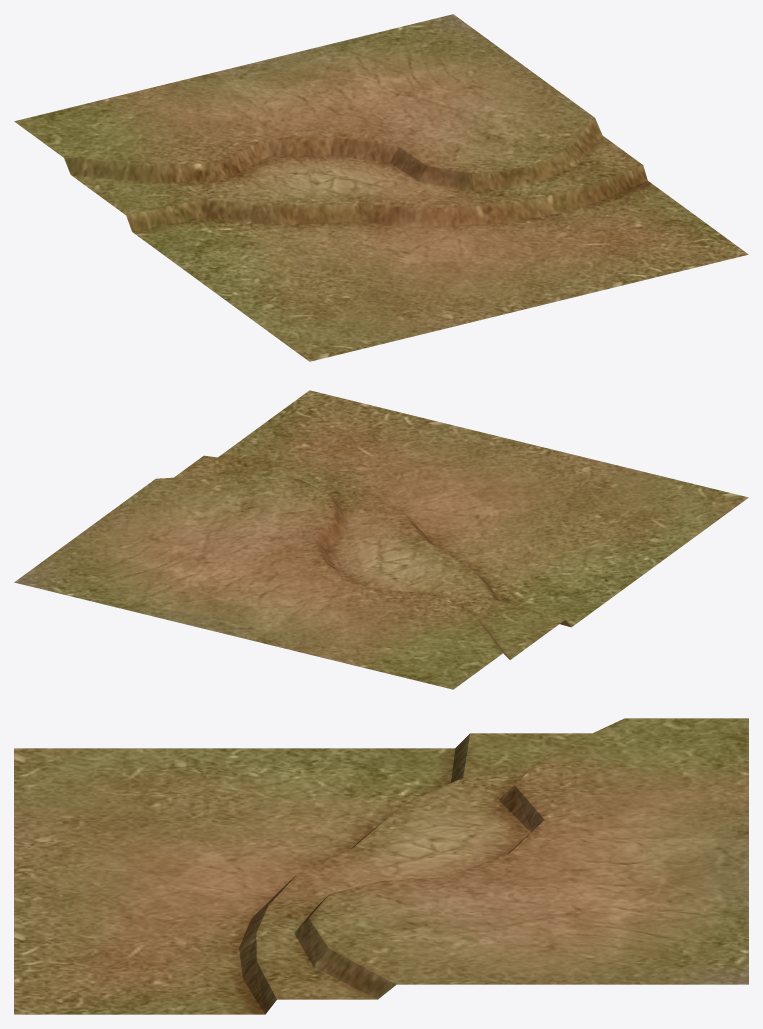
File: GGYD_DX01.FBX
The picture shows the model from 3 angles, top to bottom: view 1: azimuth 30°, elevation 25°; view 2: azimuth 150°, elevation 25°; view 3: azimuth 270°, elevation 25°; orthographic projection. The views are drawn at different scales.
Parts seen in each view (by area): view 1: Plane01; view 2: Plane01; view 3: Plane01.
Part boxes in pixels (<box>): Plane01: <box>14,14,748,361</box>; Plane01: <box>14,390,748,689</box>; Plane01: <box>14,718,748,1014</box>.
Size of the model in its own units: 51.49 by 2.7 by 60.
